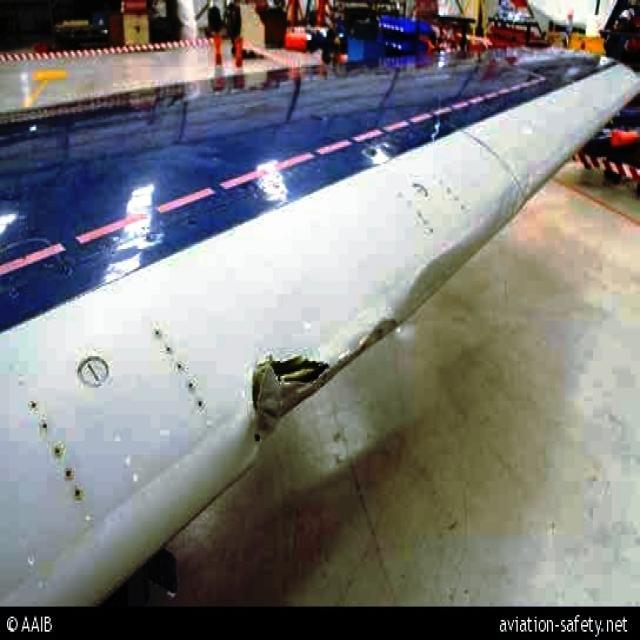crack: (254, 354, 326, 446)
dent: (406, 234, 486, 322), (359, 315, 402, 349)
